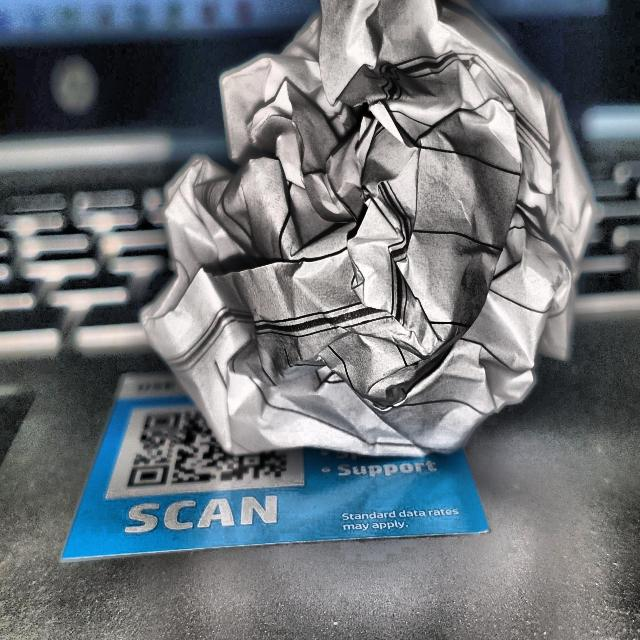paper: (114, 0, 609, 499)
